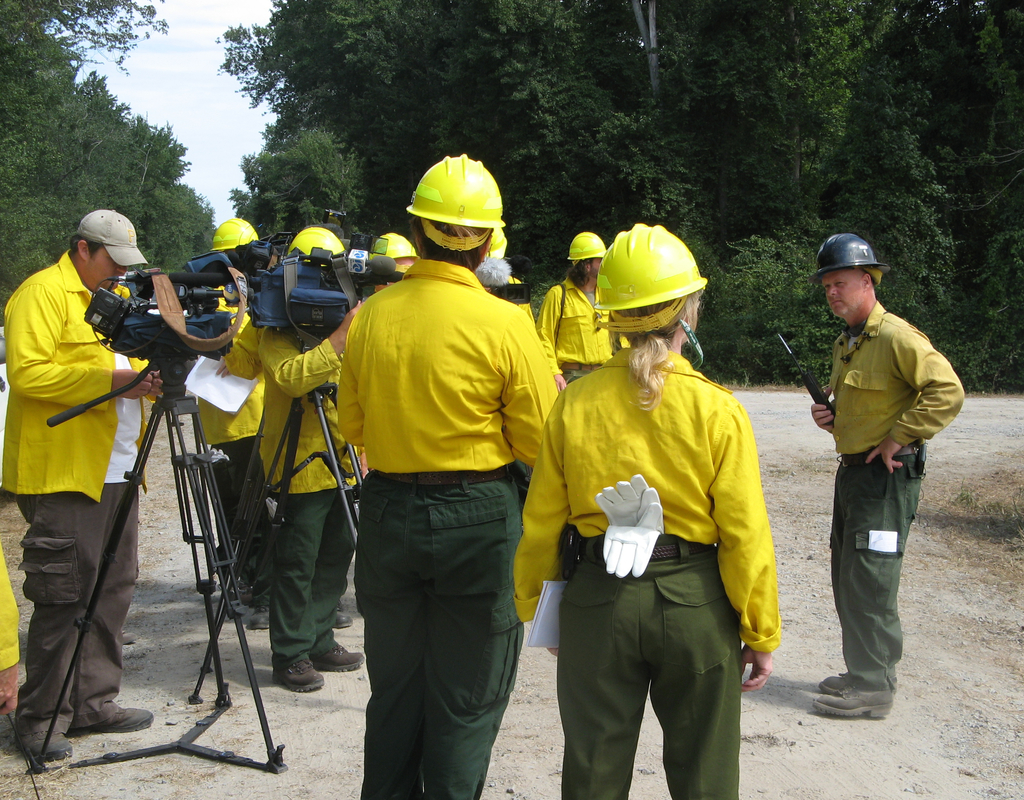Person: (1, 151, 960, 800)
